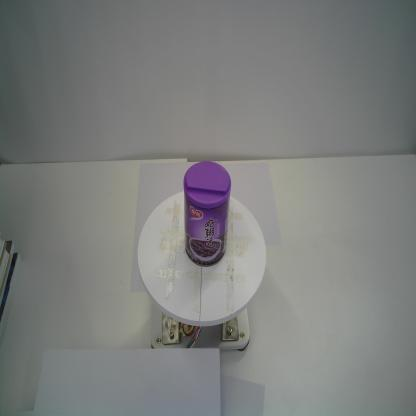Canned Food: (182, 159, 232, 268)
